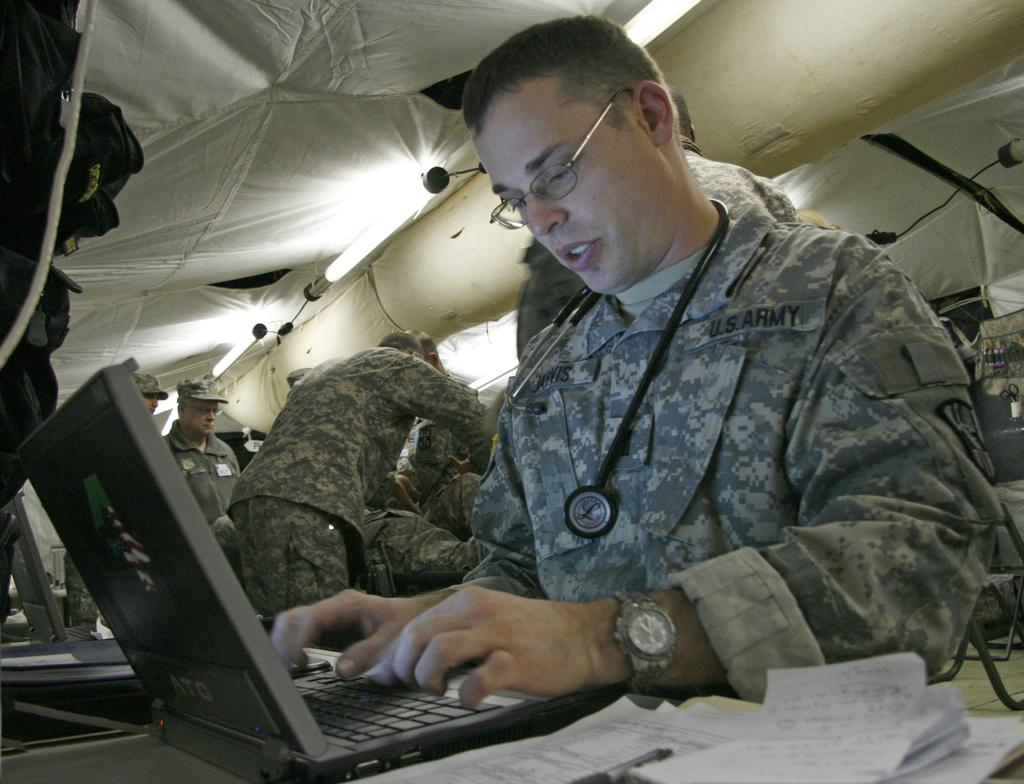Laptop: (24, 418, 637, 772), (0, 492, 101, 643)
